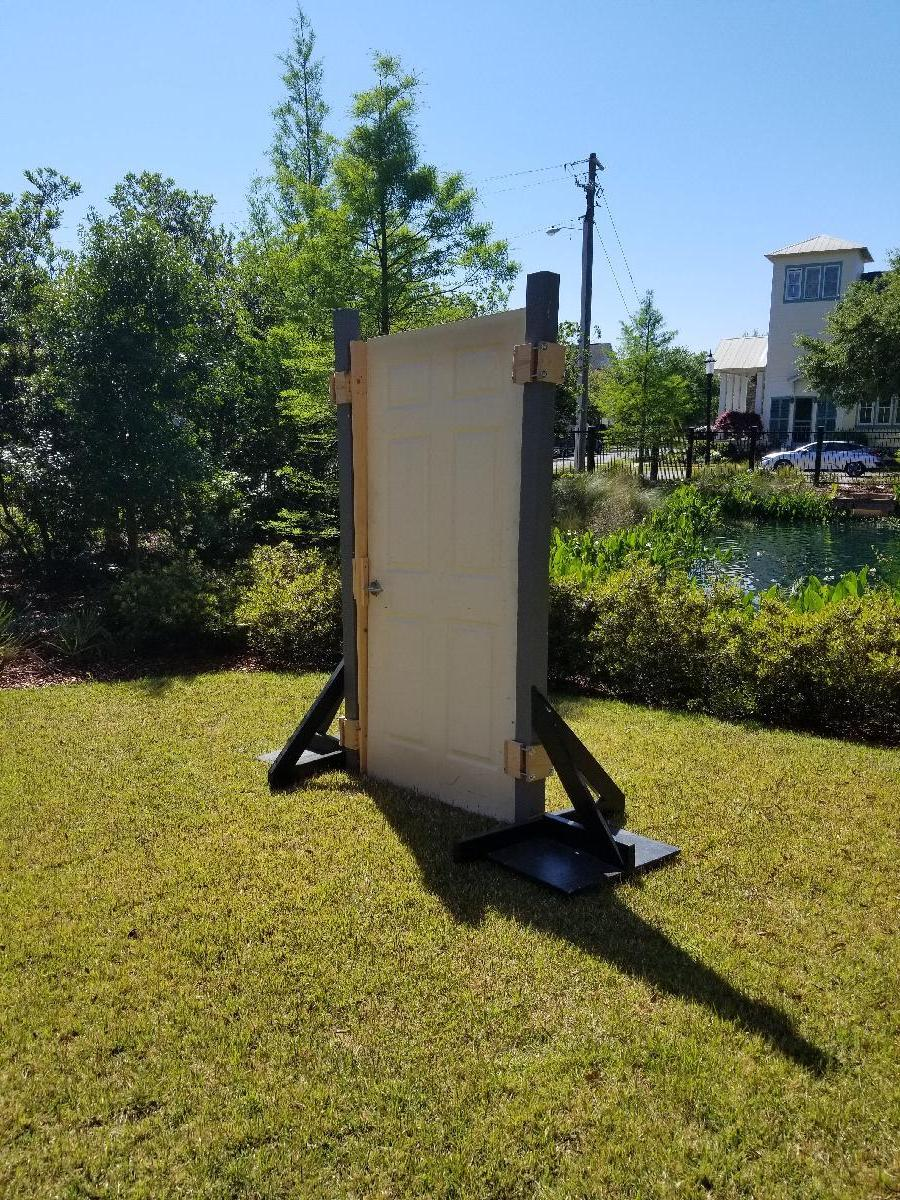door: (354, 308, 520, 819)
handle: (364, 578, 386, 598)
